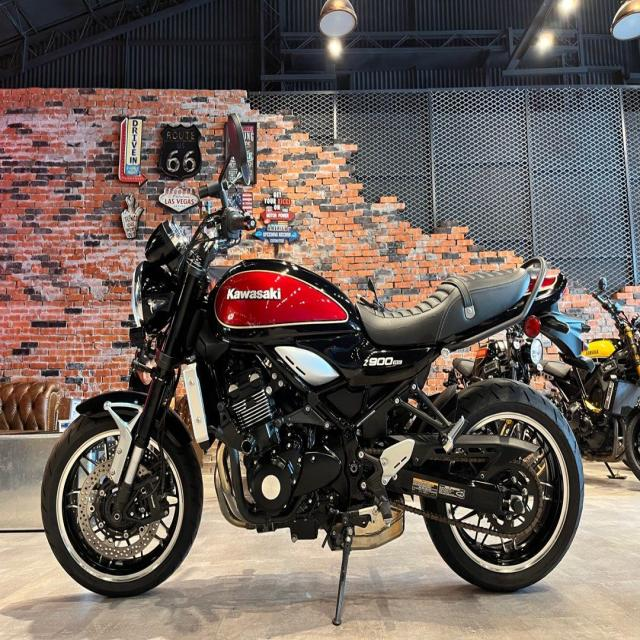Bike: (41, 115, 584, 625)
